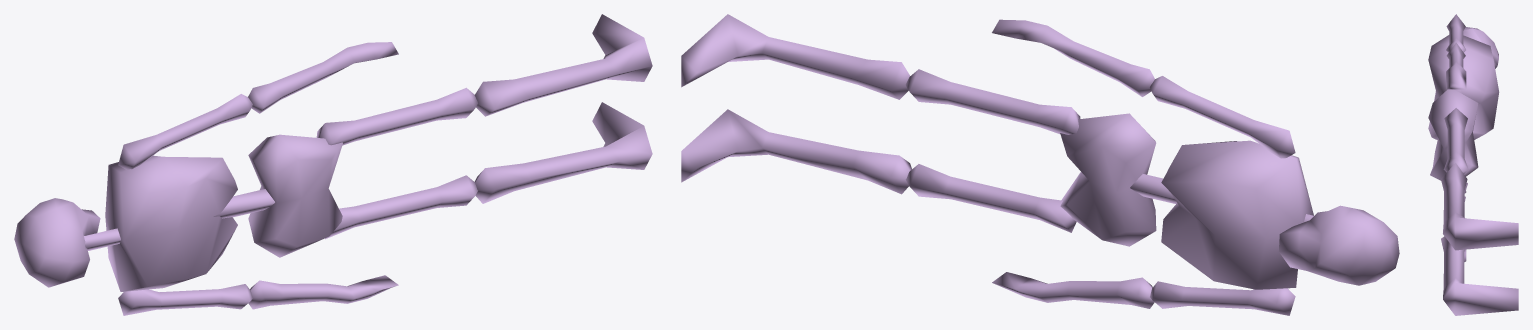
3 renders of one model, left to right at view 1: azimuth 30°, elevation 25°; view 2: azimuth 150°, elevation 25°; view 3: azimuth 270°, elevation 25°, orthographic. The views are drawn at different scales.
Visible parts, largest first — view 1: Object33; view 2: Object33; view 3: Object33.
Part boxes in pixels (x1=…): Object33: x1=14, y1=14, x2=652, y2=315; Object33: x1=681, y1=14, x2=1399, y2=315; Object33: x1=1428, y1=14, x2=1518, y2=315.
Bounding box in the file's own units: 19124 × 7594 × 3261.
